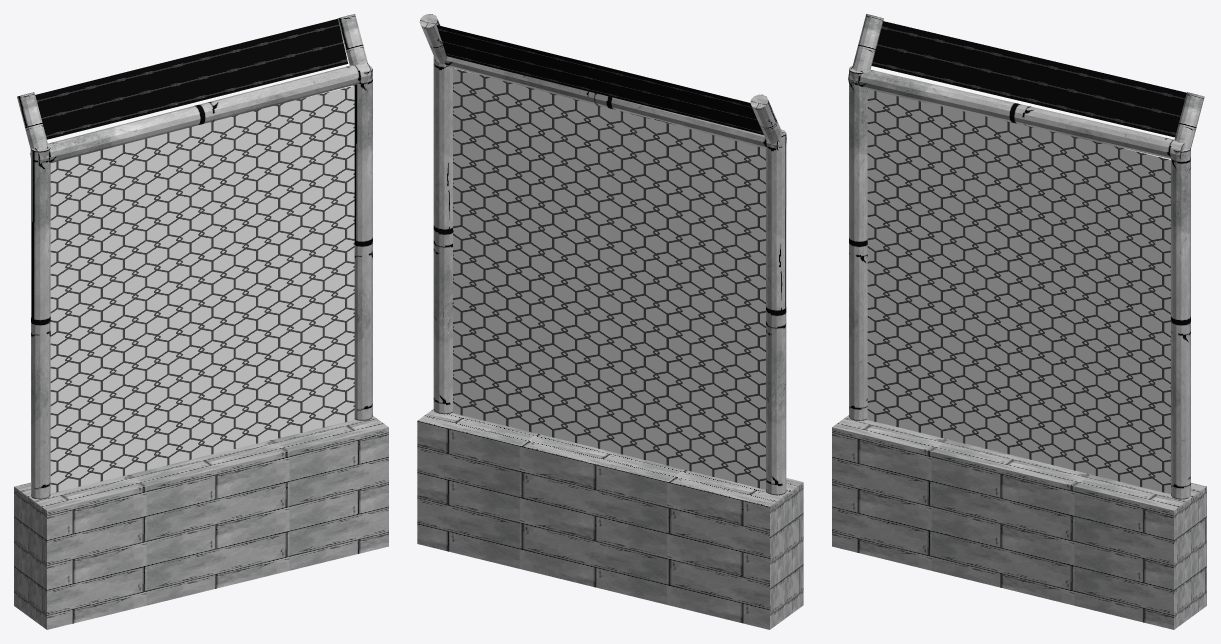
The model's file is fance.obj.
The picture shows the model from 3 angles, left to right: view 1: azimuth 30°, elevation 25°; view 2: azimuth 150°, elevation 25°; view 3: azimuth 330°, elevation 25°; orthographic projection. The views are drawn at different scales.
Visible parts, largest first — view 1: pPlane3, pPlane1, pCube1, pPlane4, pCylinder1, pCylinder3, pCylinder2, pCylinder4, pCylinder5; view 2: pPlane1, pCube1, pPlane3, pPlane2, pCylinder1, pCylinder2, pCylinder3, pCylinder4, pCylinder5; view 3: pPlane1, pPlane3, pCube1, pPlane4, pCylinder2, pCylinder3, pCylinder1, pCylinder4, pCylinder5.
Part boxes in pixels (x1,y1,x2,y2): pPlane3: (201,86,355,456); pPlane1: (50,86,353,493); pCube1: (14,416,388,629); pPlane4: (35,18,348,139); pCylinder1: (31,147,50,499); pCylinder3: (30,62,371,165); pCylinder2: (353,66,372,420); pCylinder4: (17,92,47,149); pCylinder5: (338,14,367,65); pPlane1: (452,69,610,451); pCube1: (417,409,803,629); pPlane3: (453,68,765,489); pPlane2: (436,25,763,134); pCylinder1: (766,129,786,495); pCylinder2: (433,56,453,414); pCylinder3: (435,56,786,150); pCylinder4: (750,94,782,143); pCylinder5: (419,14,447,63); pPlane1: (867,89,1170,456); pPlane3: (1019,124,1170,494); pCube1: (832,415,1206,629); pPlane4: (871,21,1186,137); pCylinder2: (1171,148,1190,499); pCylinder3: (848,67,1185,158); pCylinder1: (849,66,867,420); pCylinder4: (852,14,883,71); pCylinder5: (1174,92,1204,149).
Size of the model in its own units: 3 by 4.3 by 0.5434.
Materials: 3 (3 with a texture image).
